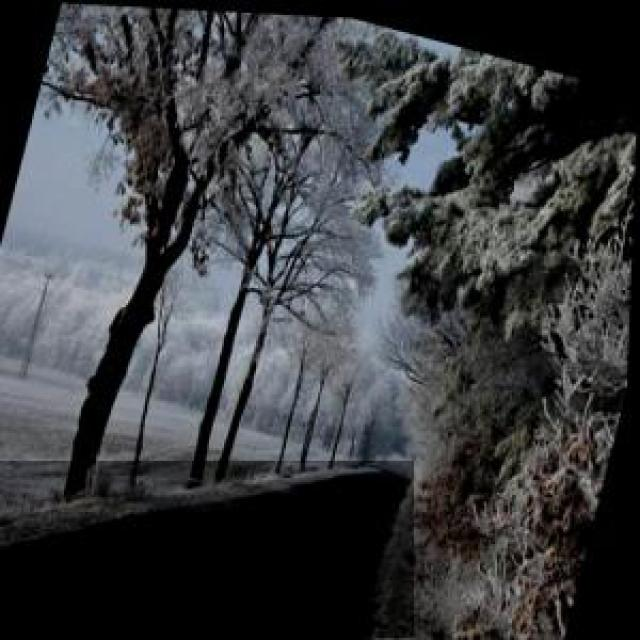clear-road: (0, 462, 414, 640)
